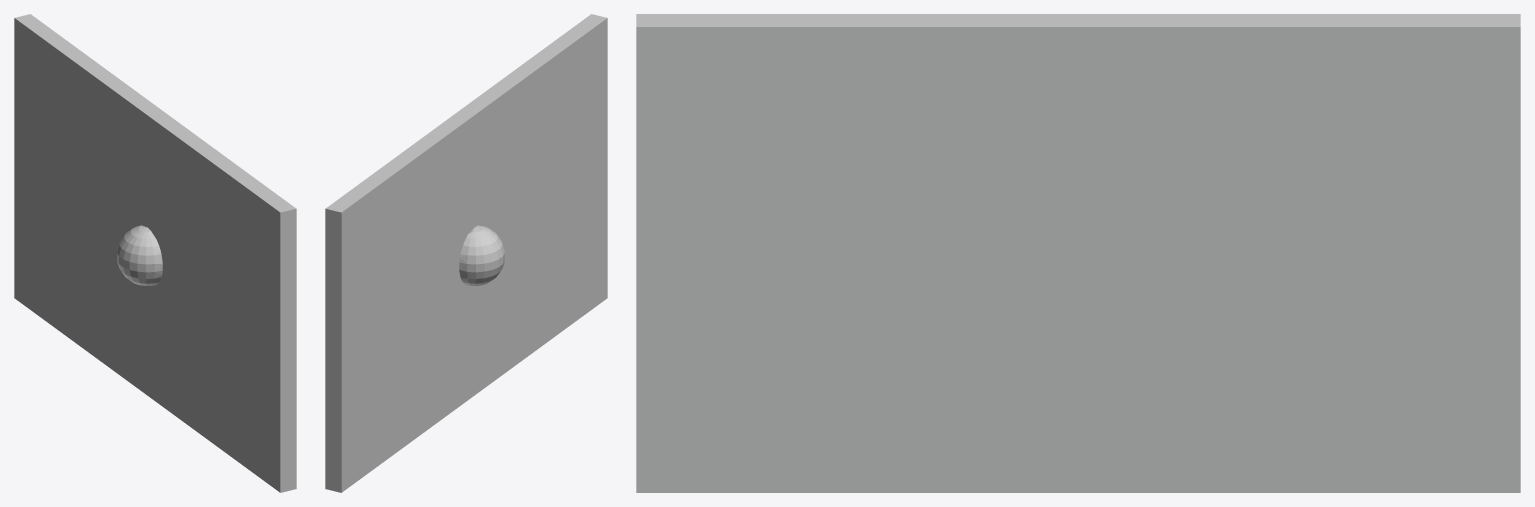
File: ELE_PAINEL.obj
3 renders of one model, left to right at view 1: azimuth 30°, elevation 25°; view 2: azimuth 150°, elevation 25°; view 3: azimuth 270°, elevation 25°, orthographic. The views are drawn at different scales.
Parts seen in each view (by area): view 1: ELE_PAINEL; view 2: ELE_PAINEL; view 3: ELE_PAINEL.
Part boxes in pixels (<box>): ELE_PAINEL: <box>14,14,296,492</box>; ELE_PAINEL: <box>325,14,607,492</box>; ELE_PAINEL: <box>636,14,1520,492</box>.
Bounding box in the file's own units: 39.49 × 250 × 430.
2 materials, 1 textured.
